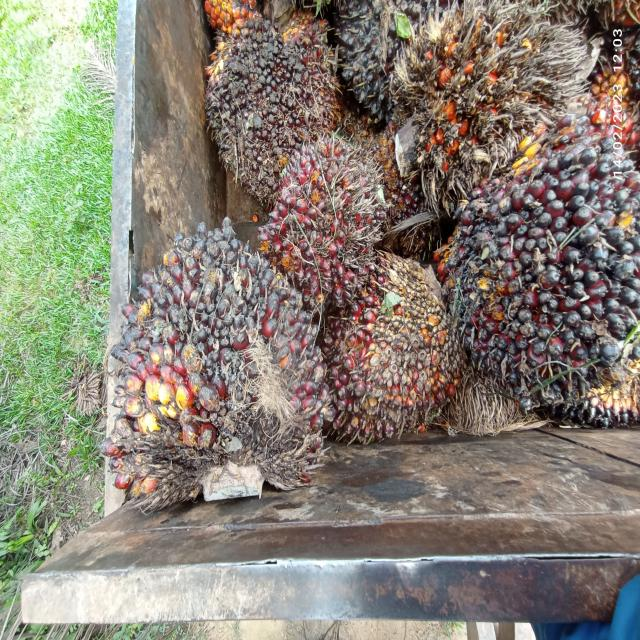fraksi 00: (87, 203, 347, 503), (438, 83, 640, 446), (198, 7, 366, 190)
fraksi 1: (254, 125, 393, 302)
fraksi 3: (306, 209, 487, 476)
fraksi 4: (378, 0, 616, 191)
